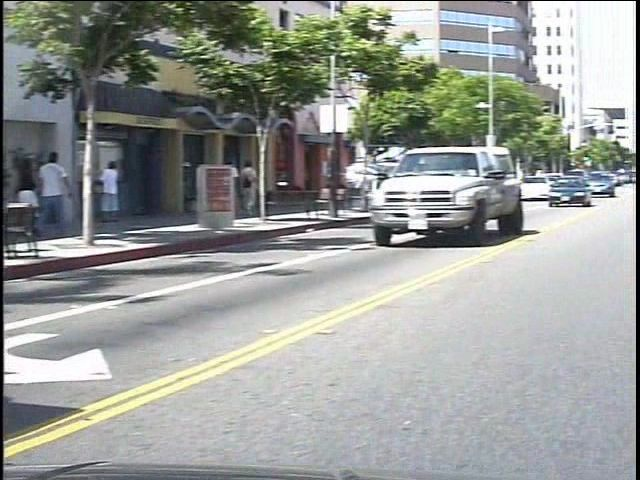person: (50, 147, 86, 254), (27, 149, 57, 240), (109, 151, 137, 227), (252, 160, 274, 221)
